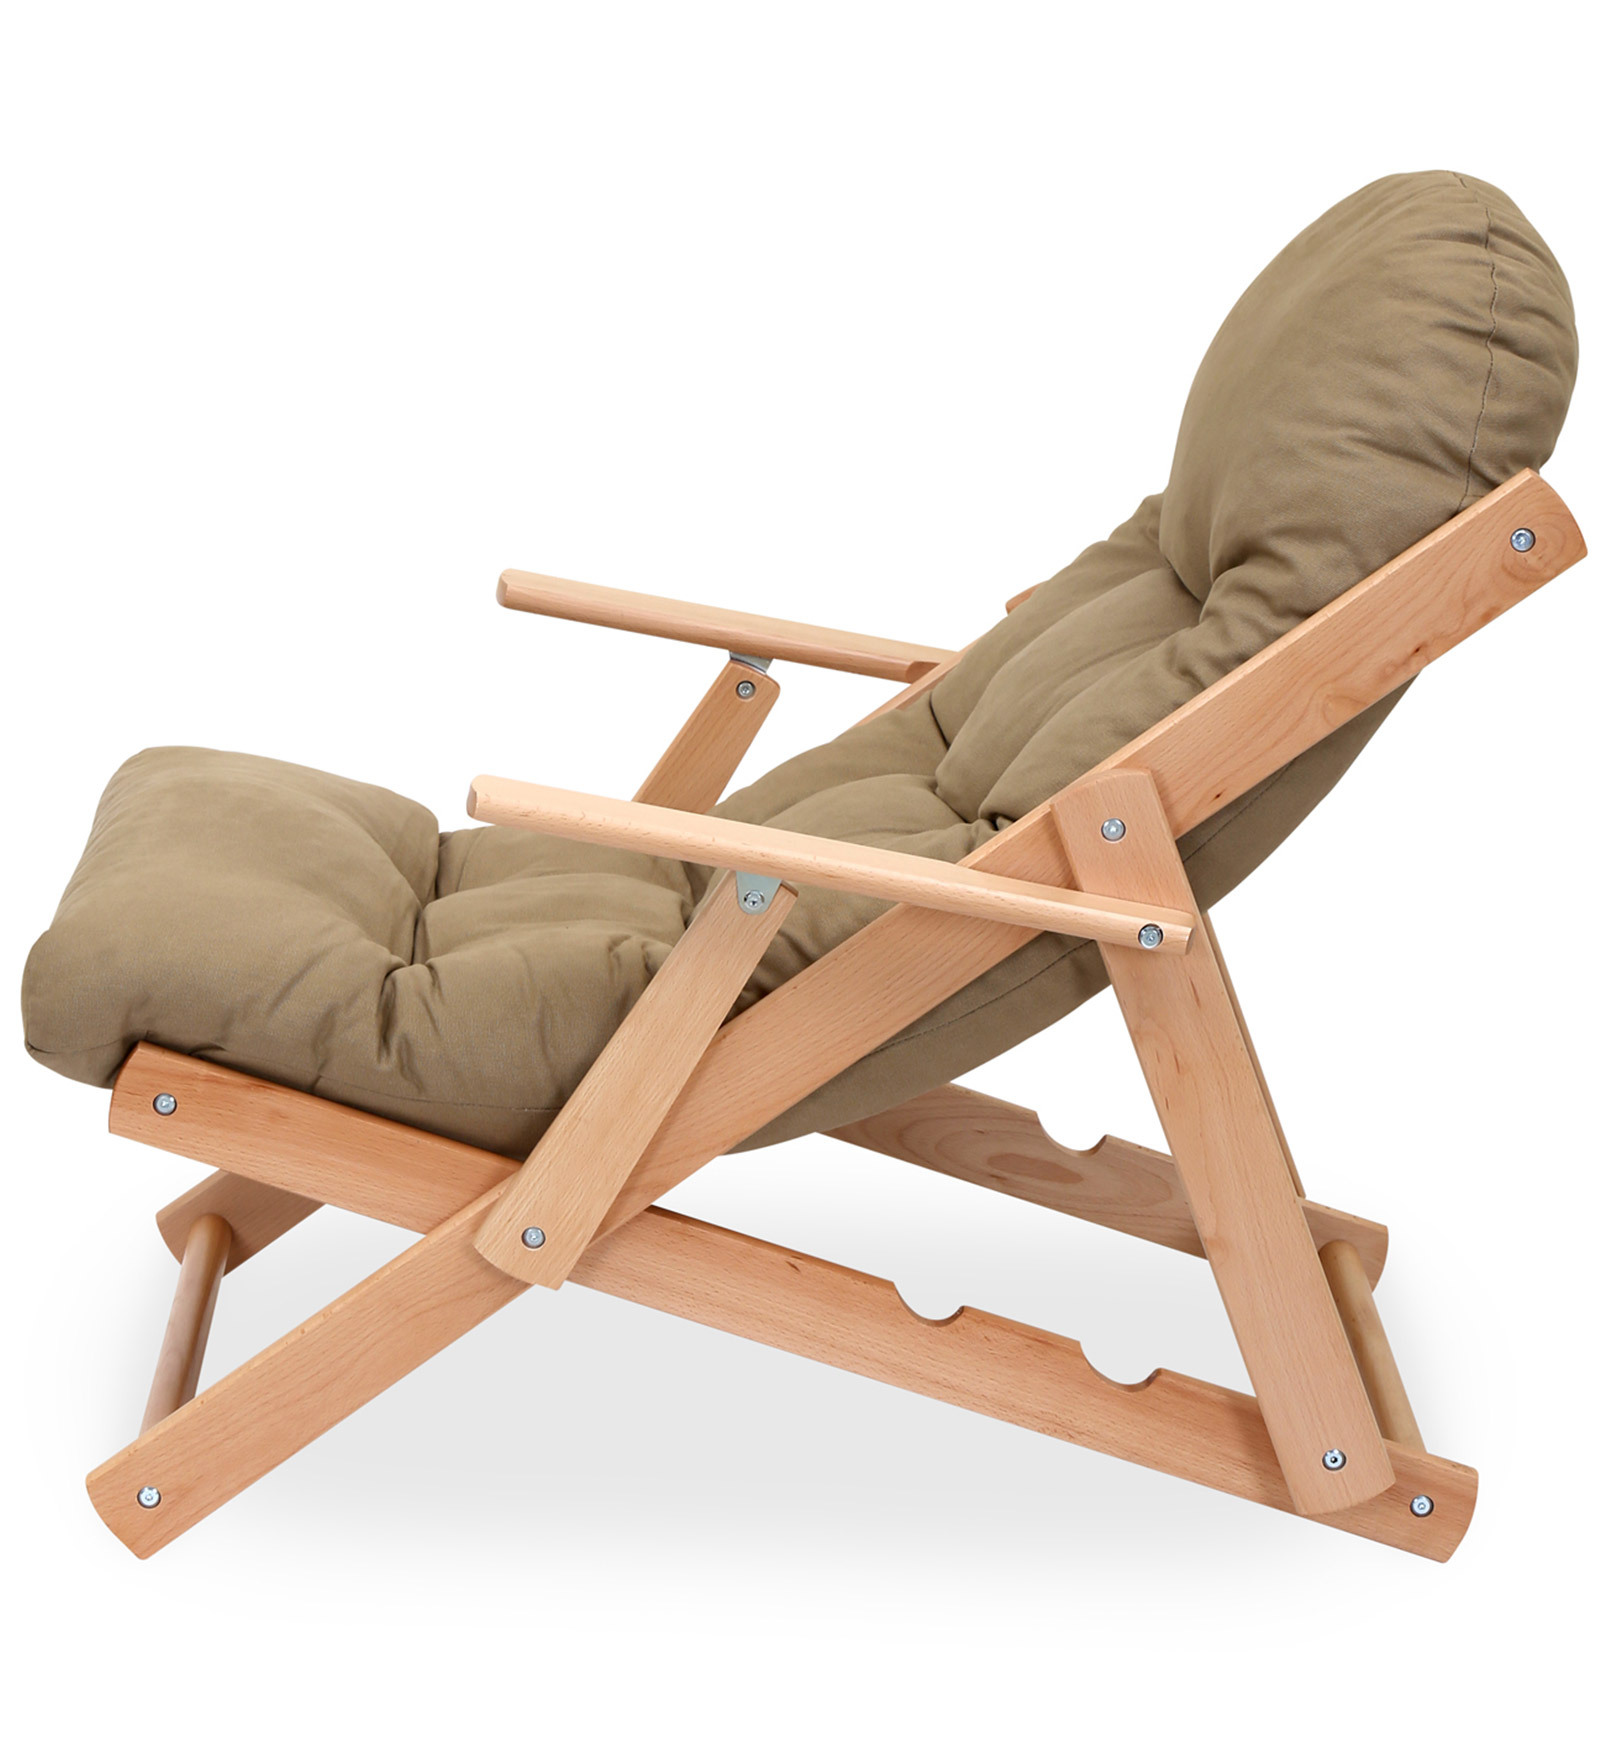Mazda Leisure Folding Chair in Light Brown Colour by @ Home: (18, 173, 1588, 1568)
